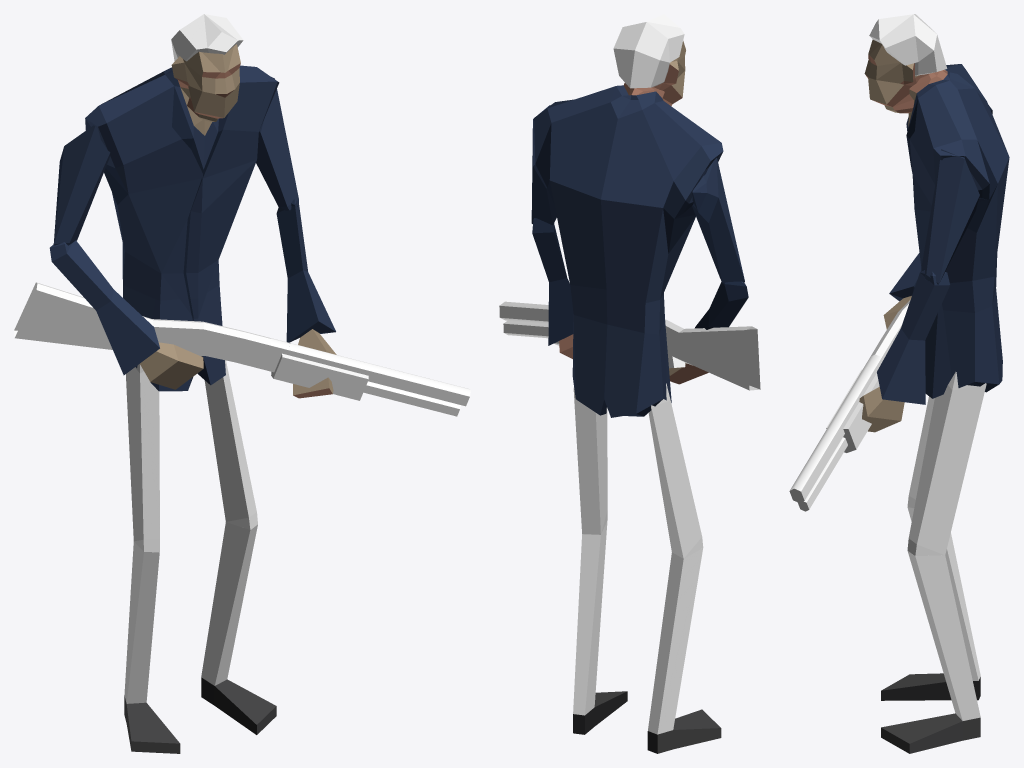
Rendered from character_bulk.FBX.
The picture shows the model from 3 angles, left to right: view 1: azimuth 30°, elevation 25°; view 2: azimuth 150°, elevation 25°; view 3: azimuth 270°, elevation 25°; orthographic projection. The views are drawn at different scales.
Visible parts, largest first — view 1: torso, Box02; view 2: torso, Box02; view 3: torso, Box02.
Boxes of the visible parts, <box> form: torso: <box>49,14,336,753</box>; Box02: <box>14,282,470,416</box>; torso: <box>531,14,748,753</box>; Box02: <box>499,301,760,390</box>; torso: <box>859,14,1009,753</box>; Box02: <box>789,300,910,511</box>.
Bounding box in the file's own units: 99.07 × 188 × 53.16.
1 material, 1 textured.
